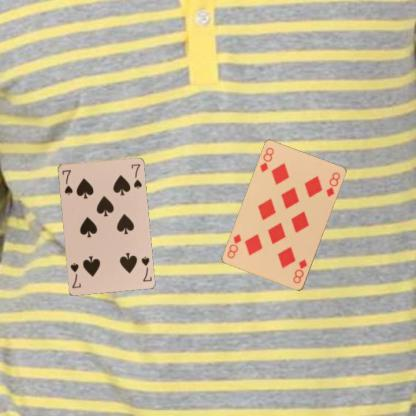7s: (60, 167, 74, 196), (138, 254, 152, 283)
8d: (290, 257, 309, 285), (257, 145, 275, 173)
